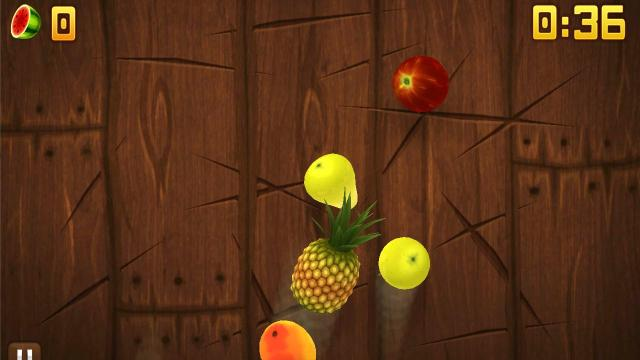fruit: (294, 184, 384, 314), (392, 55, 450, 113), (304, 152, 358, 207), (378, 236, 430, 289), (258, 320, 316, 360)
ignore: (10, 4, 42, 40)
